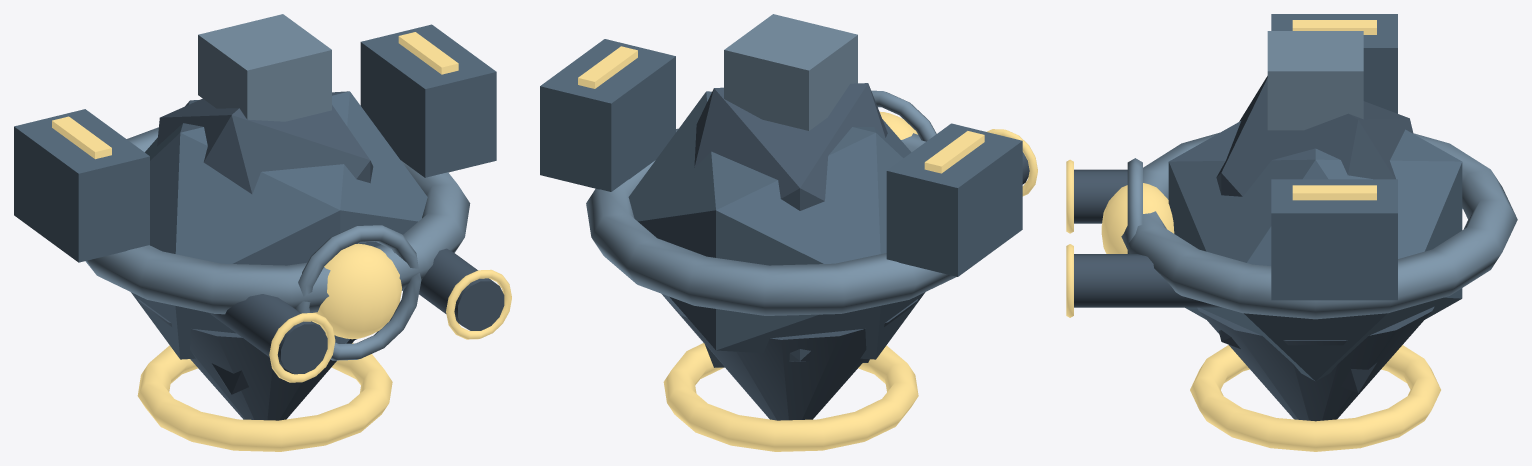
File: sentinel.glb
3 renders of one model, left to right at view 1: azimuth 30°, elevation 25°; view 2: azimuth 150°, elevation 25°; view 3: azimuth 270°, elevation 25°, orthographic. The views are drawn at different scales.
Visible parts, largest first — view 1: sentinel; view 2: sentinel; view 3: sentinel.
Part boxes in pixels (box(x1,y1,x2,y2)): sentinel: box(14, 14, 511, 451); sentinel: box(540, 14, 1037, 451); sentinel: box(1066, 14, 1517, 451).
Size of the model in its own units: 2.46 by 2.26 by 2.36.
